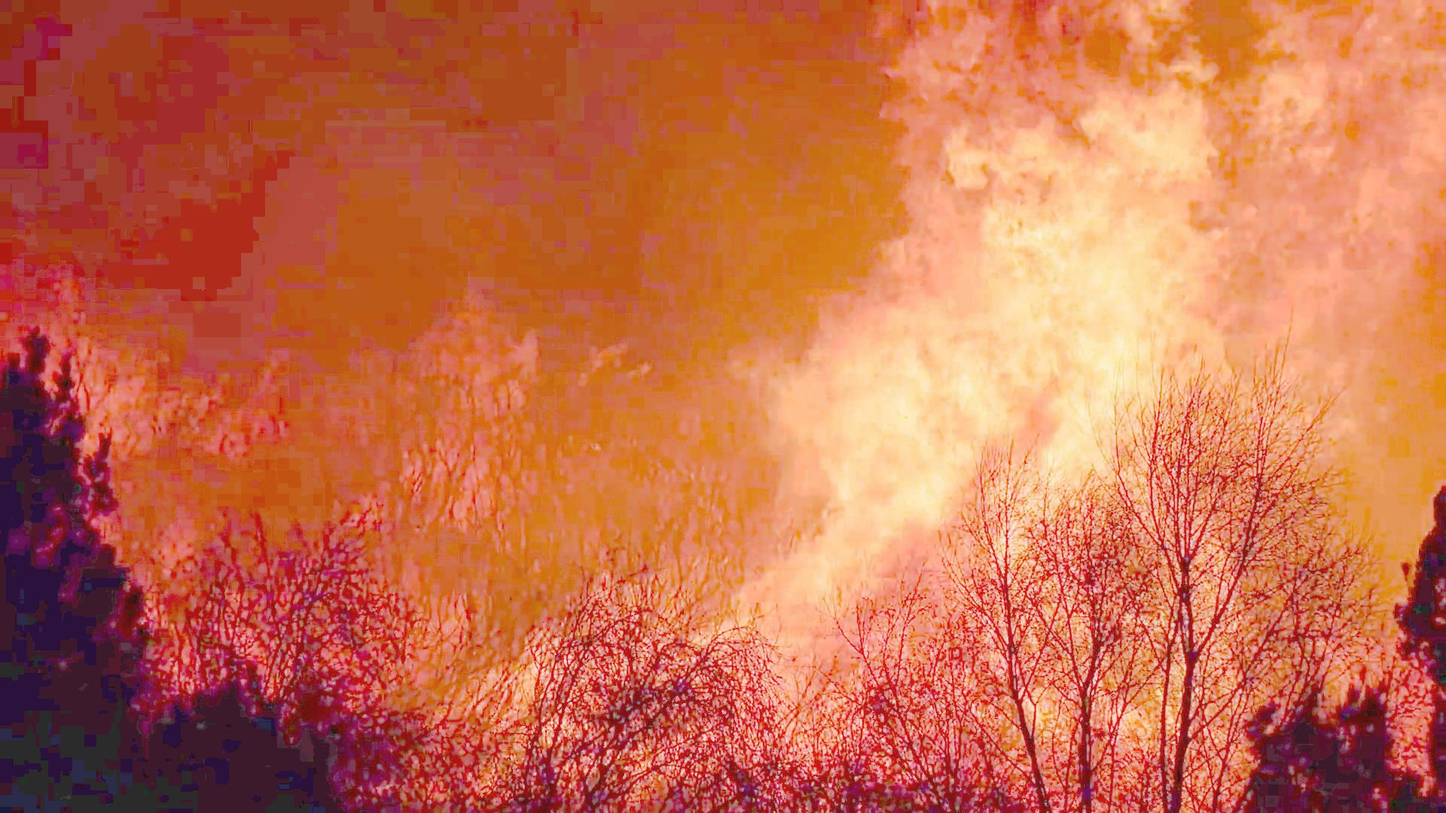fire: (885, 23, 1371, 375)
